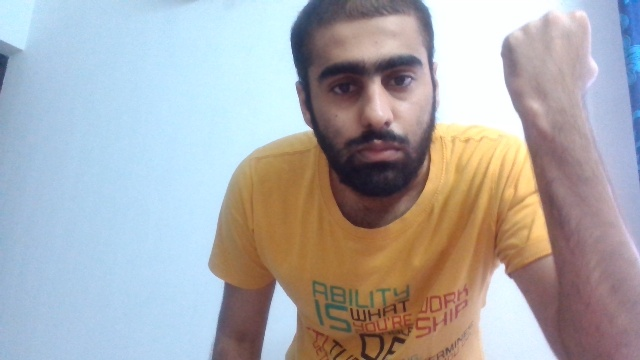rock: (499, 9, 598, 118)
